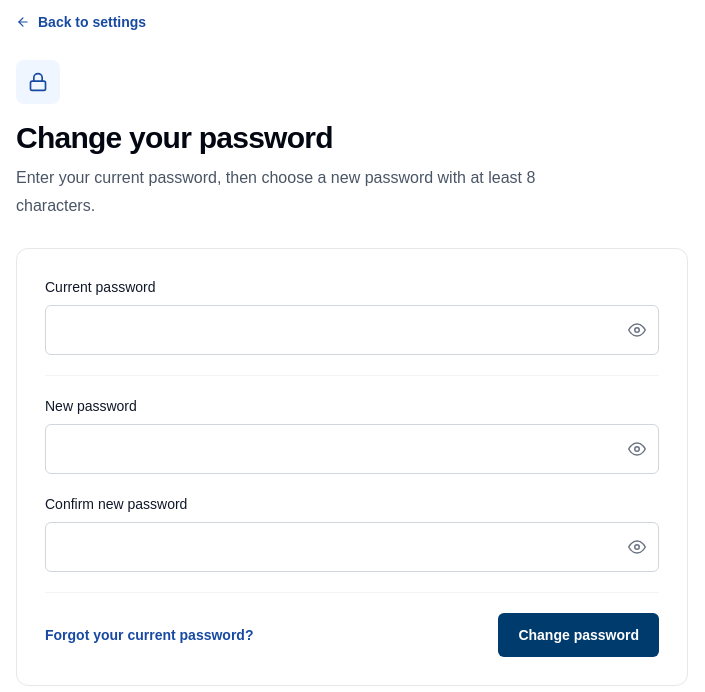
Test case: ChangePasswordForm › submits the current and new password and keeps recovery as a fallback
Type "current-password" into the password field labelled "Current password" at (352, 330), box [45,305,659,355]
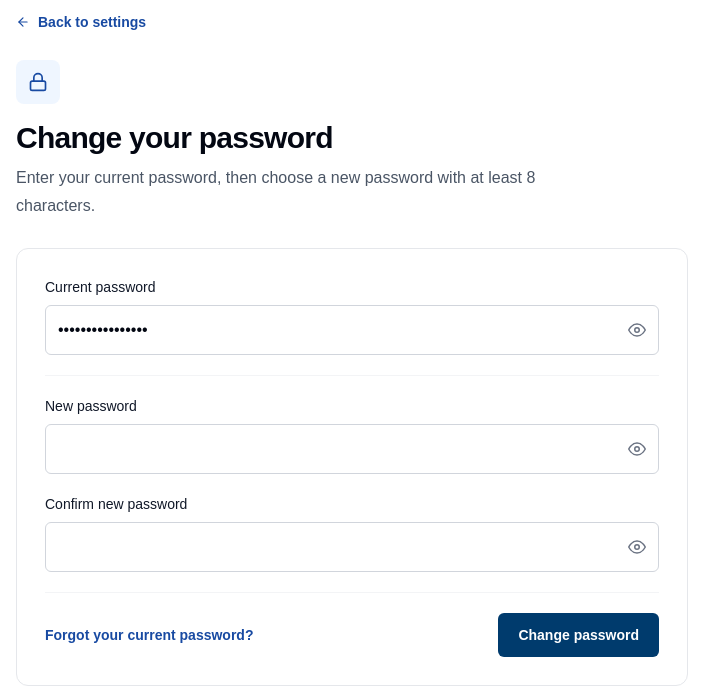
Type "replacement-password" into the password field labelled "New password" at (352, 449), box [45,424,659,474]
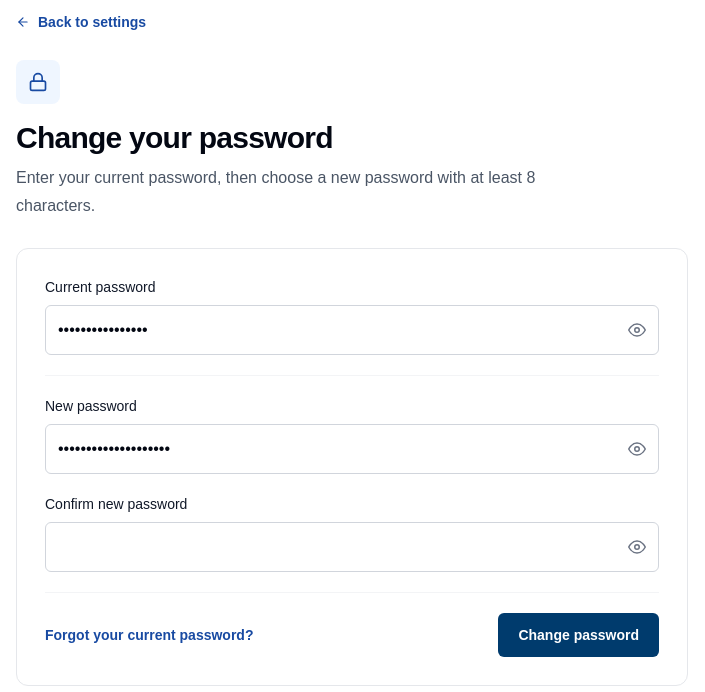
Type "replacement-password" into the password field labelled "Confirm new password" at (352, 547), box [45,522,659,572]
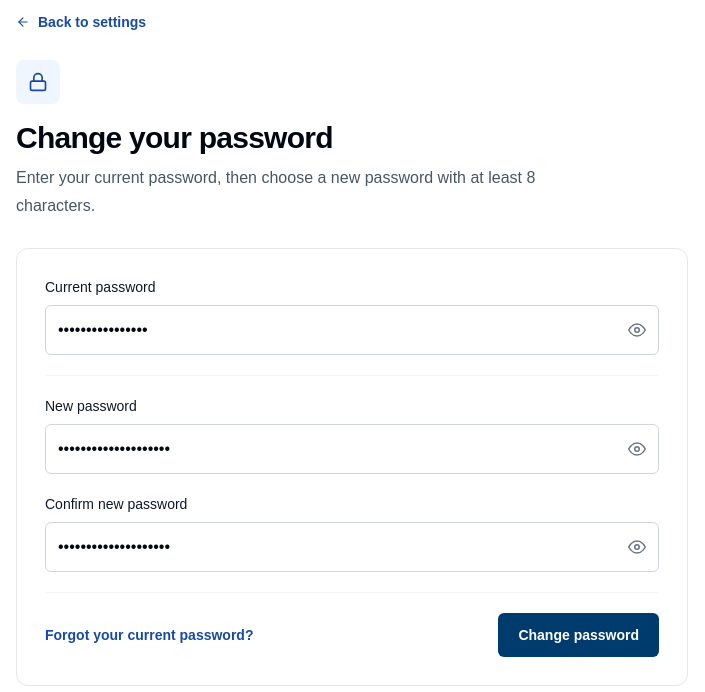
Click the button "Change password" at (579, 635), box [498,613,659,657]
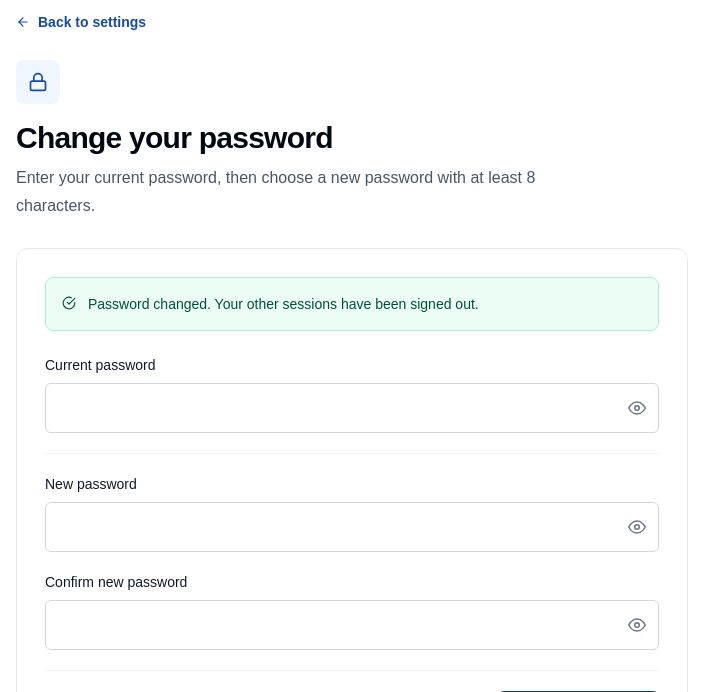
Now the text "Password changed. Your other sessions have been signed out." is shown, box [88,294,479,314]
